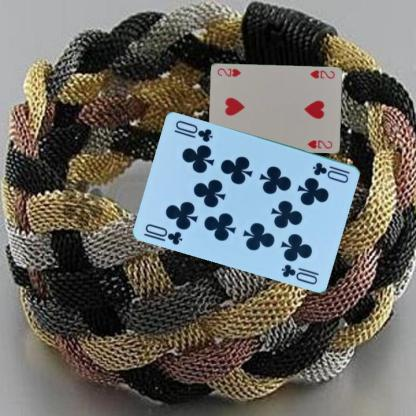10c: (143, 221, 184, 246), (310, 160, 351, 184)
2h: (307, 68, 336, 80)
